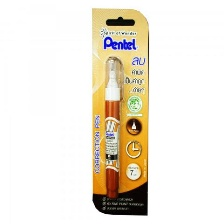book: (89, 5, 149, 217)
correction_fluid: (102, 53, 125, 201)
